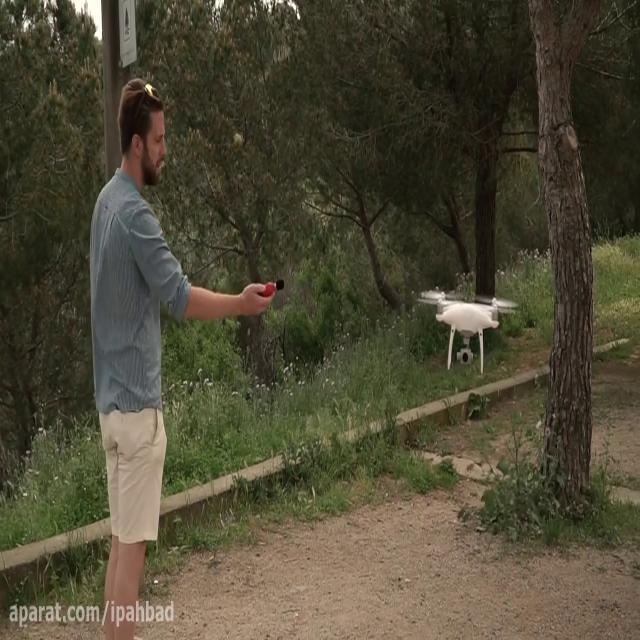drone: (420, 284, 519, 372)
